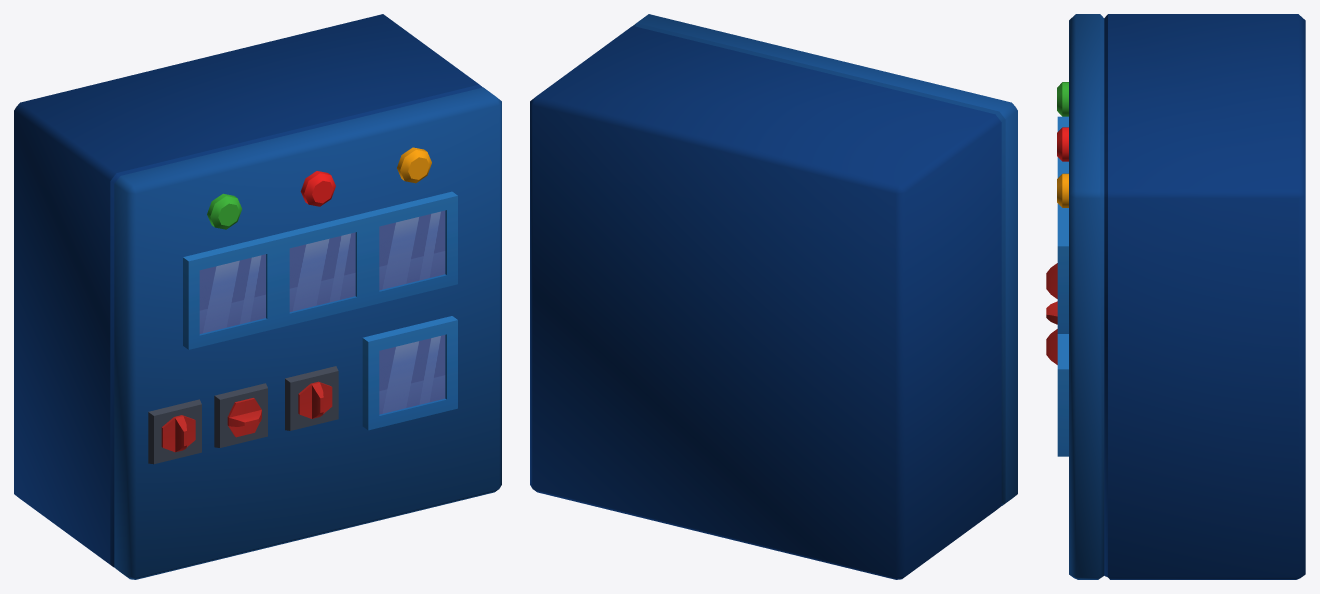
Rendered from ElectricBox_3_B_2.fbx.
3 renders of one model, left to right at view 1: azimuth 30°, elevation 25°; view 2: azimuth 150°, elevation 25°; view 3: azimuth 270°, elevation 25°, orthographic.
Parts seen in each view (by area): view 1: ElectricBox_3_B_2; view 2: ElectricBox_3_B_2; view 3: ElectricBox_3_B_2.
Part boxes in pixels (x1,y1,x2,y2): ElectricBox_3_B_2: (14, 14, 501, 579); ElectricBox_3_B_2: (530, 14, 1017, 579); ElectricBox_3_B_2: (1046, 14, 1305, 579).
Bounding box in the file's own units: 102 × 102 × 61.6.
